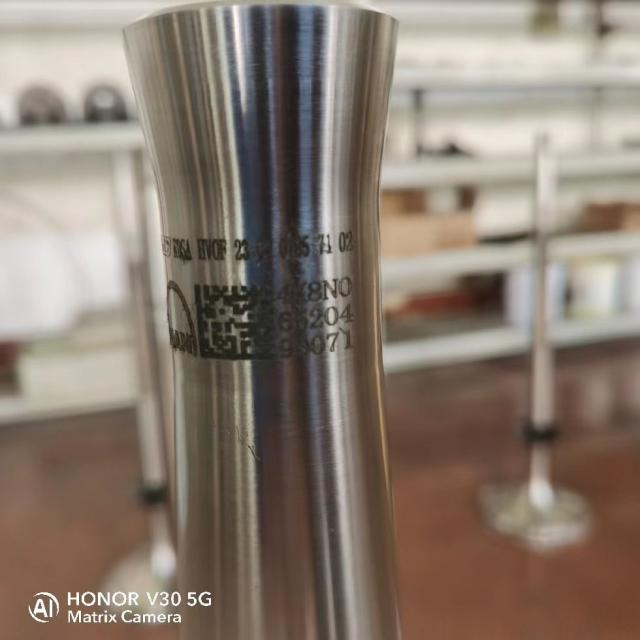dmc: (194, 284, 275, 360)
